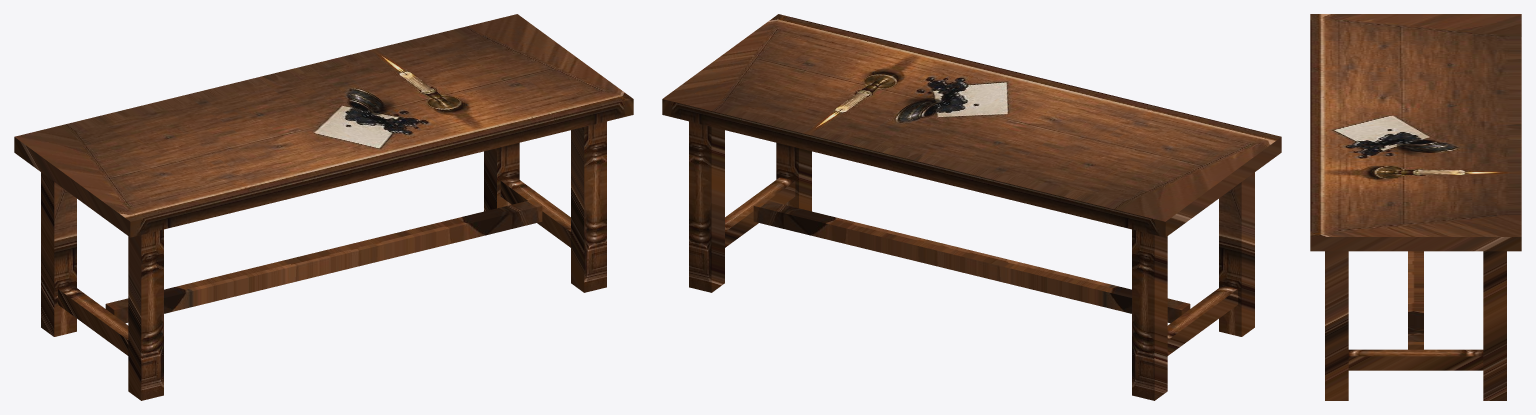
File: v3-library-reading-table.glb
The picture shows the model from 3 angles, left to right: view 1: azimuth 30°, elevation 25°; view 2: azimuth 150°, elevation 25°; view 3: azimuth 270°, elevation 25°; orthographic projection. The views are drawn at different scales.
Parts seen in each view (by area): view 1: v3-library-reading-table; view 2: v3-library-reading-table; view 3: v3-library-reading-table.
Part boxes in pixels (left/top/right/bottom): v3-library-reading-table: left=14, top=14, right=633, bottom=400; v3-library-reading-table: left=662, top=14, right=1281, bottom=400; v3-library-reading-table: left=1310, top=14, right=1521, bottom=400.
Size of the model in its own units: 2 by 0.72 by 0.8.
1 material, 1 textured.
